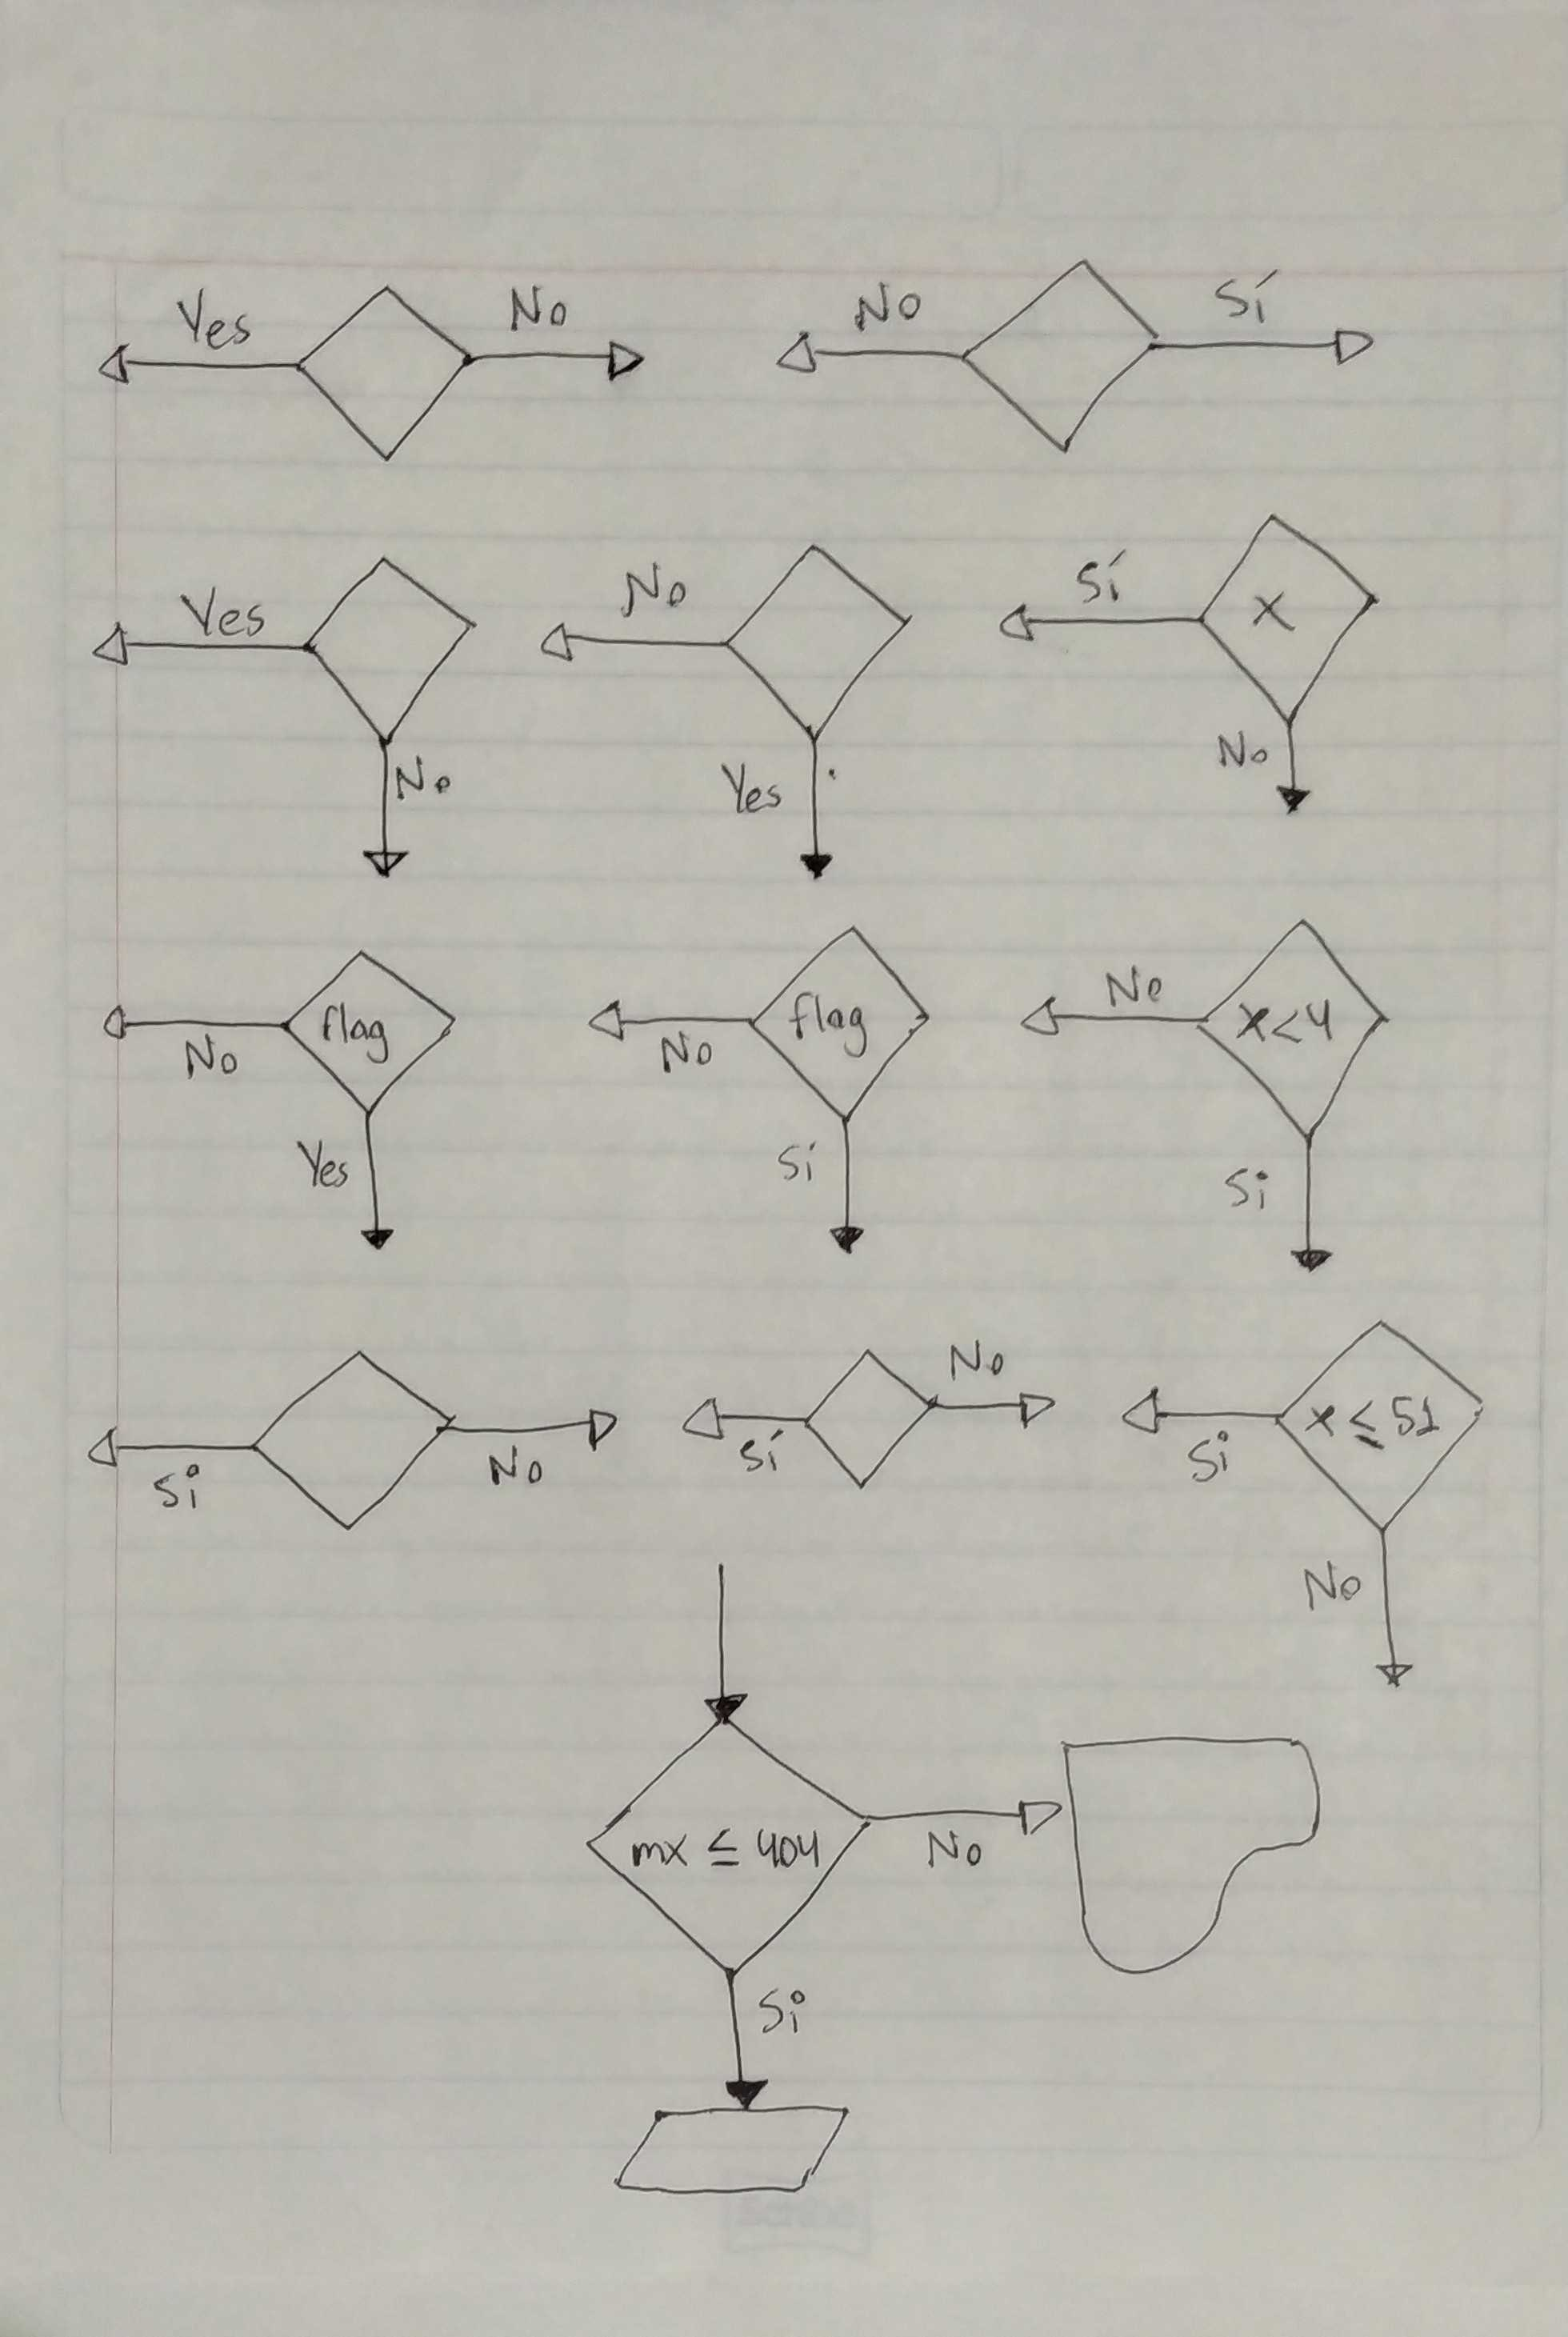arrow_line_down: (691, 1552, 758, 1728), (352, 740, 423, 887), (821, 1111, 882, 1263), (1365, 1524, 1419, 1692), (710, 1964, 772, 2110), (345, 1107, 404, 1254), (1279, 1135, 1339, 1280), (786, 738, 842, 885), (1267, 715, 1323, 822)
arrow_line_left: (80, 609, 317, 686), (89, 329, 304, 395), (990, 591, 1204, 652), (528, 614, 738, 675), (91, 992, 289, 1057), (766, 322, 971, 383), (1008, 990, 1204, 1050), (1113, 1380, 1284, 1443), (579, 995, 756, 1055), (82, 1420, 259, 1478), (672, 1394, 810, 1454)
arrow_line_right: (1151, 310, 1375, 385), (444, 1394, 626, 1461), (866, 1788, 1066, 1847), (465, 332, 654, 394), (931, 1380, 1064, 1438)
decision: (579, 1716, 875, 1977), (1190, 911, 1398, 1146), (1276, 1310, 1494, 1529), (961, 248, 1165, 465), (1193, 506, 1391, 724), (250, 1340, 458, 1541), (724, 532, 915, 743), (749, 913, 936, 1125), (294, 278, 476, 472), (306, 548, 479, 750), (282, 939, 465, 1118), (801, 1338, 943, 1496)
print: (1052, 1720, 1337, 1985)
scan: (607, 2101, 861, 2211)
